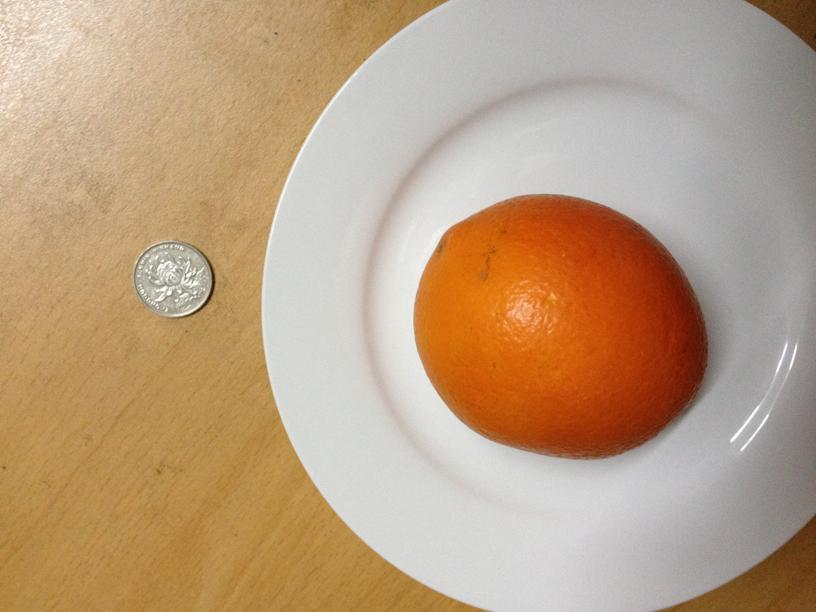coin: (133, 238, 212, 315)
orange: (406, 192, 707, 460)
